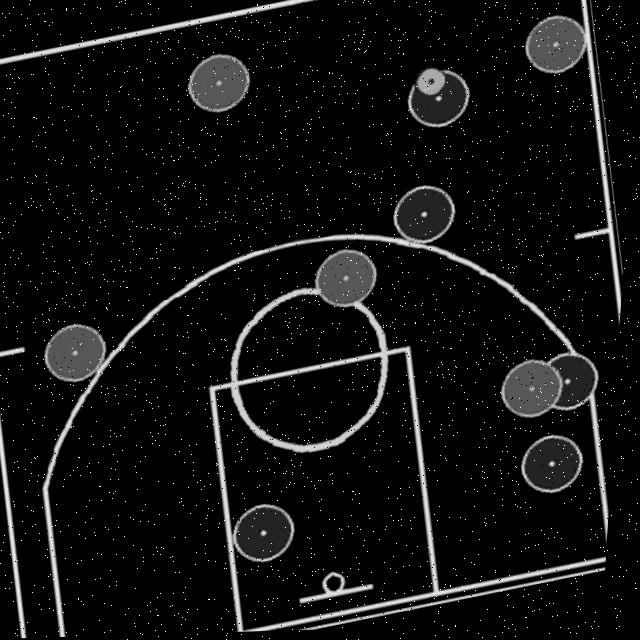Basketball: (416, 68, 446, 97)
Team_A: (238, 504, 300, 563), (395, 186, 457, 245), (408, 70, 470, 129), (526, 437, 588, 495), (540, 357, 602, 415)
Team_B: (187, 54, 250, 113), (47, 323, 110, 381), (525, 17, 586, 76), (317, 250, 379, 308), (505, 362, 565, 420)
